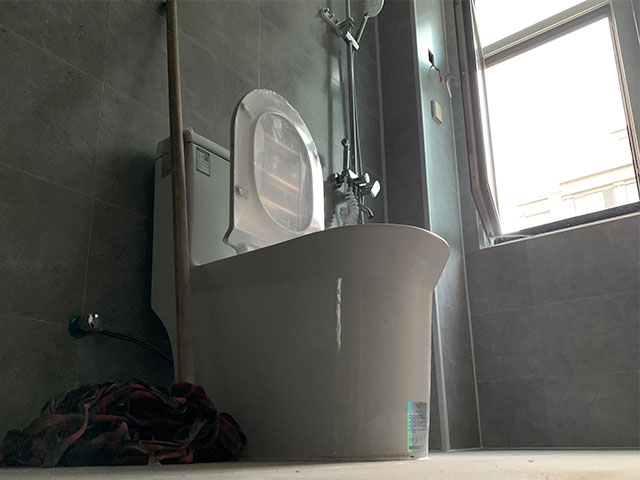closestool: (151, 87, 452, 465)
